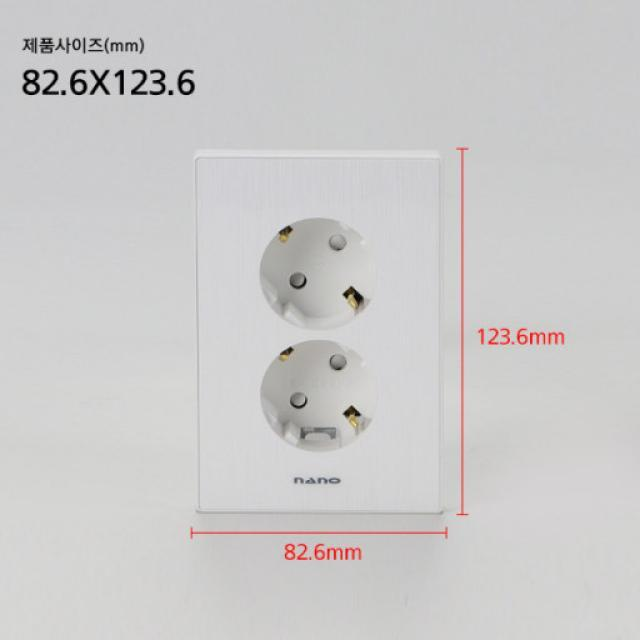typeb: (165, 141, 462, 540)
